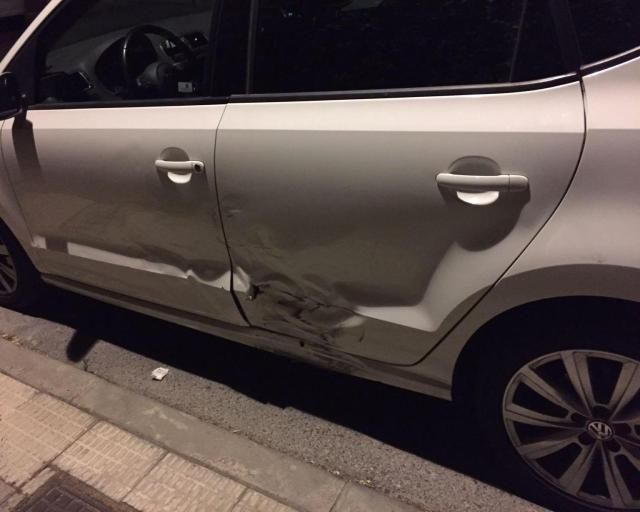dent: (96, 236, 374, 383)
scratch: (243, 280, 369, 370)
